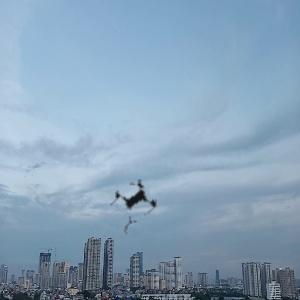drone: (82, 149, 186, 253)
